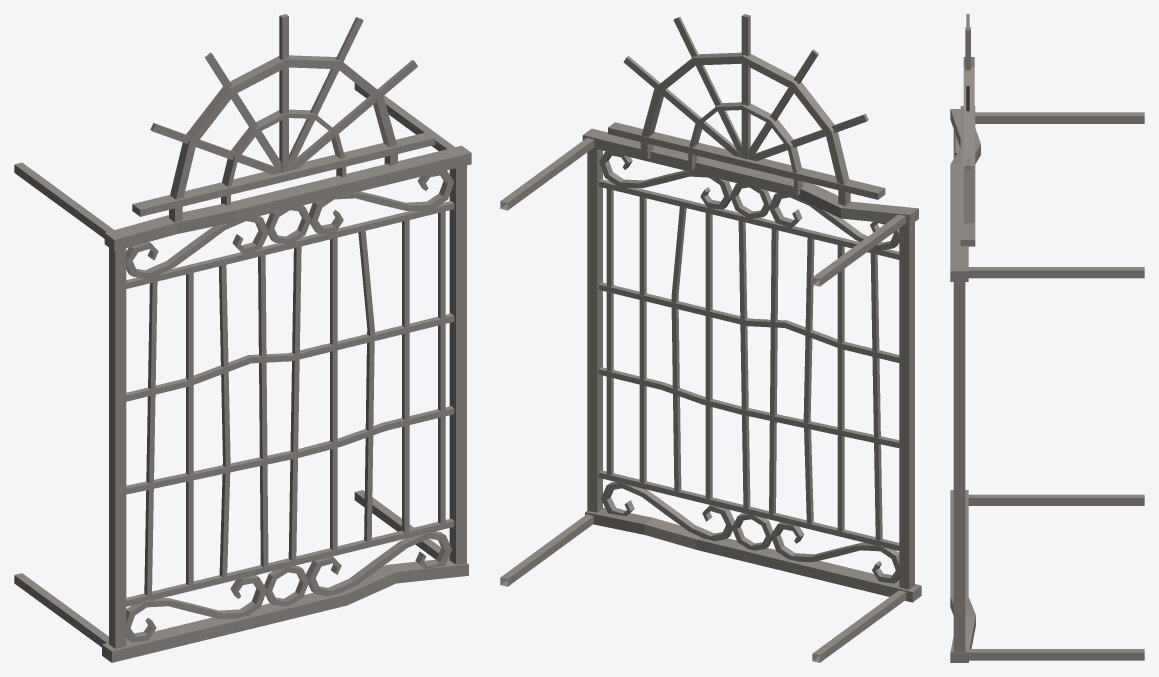
Rendered from SM_Prop_WindowBars_01.glb.
3 views of the same model, side by side, from view 1: azimuth 30°, elevation 25°; view 2: azimuth 150°, elevation 25°; view 3: azimuth 270°, elevation 25° (orthographic). The views are drawn at different scales.
Parts seen in each view (by area): view 1: SM_Prop_WindowBars_01_part00; view 2: SM_Prop_WindowBars_01_part00; view 3: SM_Prop_WindowBars_01_part00.
Part boxes in pixels (box(x1,y1,x2,y2)): SM_Prop_WindowBars_01_part00: box(14, 14, 471, 662); SM_Prop_WindowBars_01_part00: box(500, 14, 921, 662); SM_Prop_WindowBars_01_part00: box(950, 14, 1144, 662).
Size of the model in its own units: 1.12 by 1.78 by 0.5645.
1 material, 1 textured.
